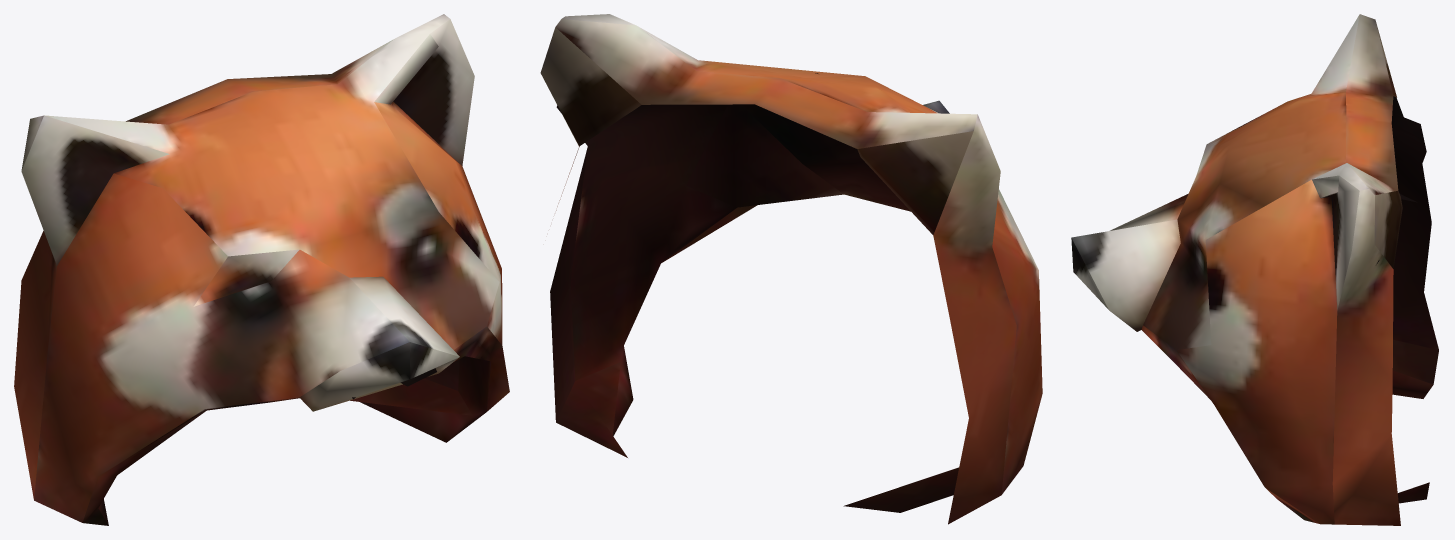
Rendered from red-panda.glb.
The picture shows the model from 3 angles, left to right: view 1: azimuth 30°, elevation 25°; view 2: azimuth 150°, elevation 25°; view 3: azimuth 270°, elevation 25°; orthographic projection. The views are drawn at different scales.
Visible parts, largest first — view 1: geometry_0; view 2: geometry_0; view 3: geometry_0.
Part boxes in pixels (x1,y1,x2,y2): geometry_0: (14,14,509,525); geometry_0: (540,14,1042,524); geometry_0: (1071,14,1438,525).
Size of the model in its own units: 0.4861 by 0.4147 by 0.3938.
1 material, 1 textured.
